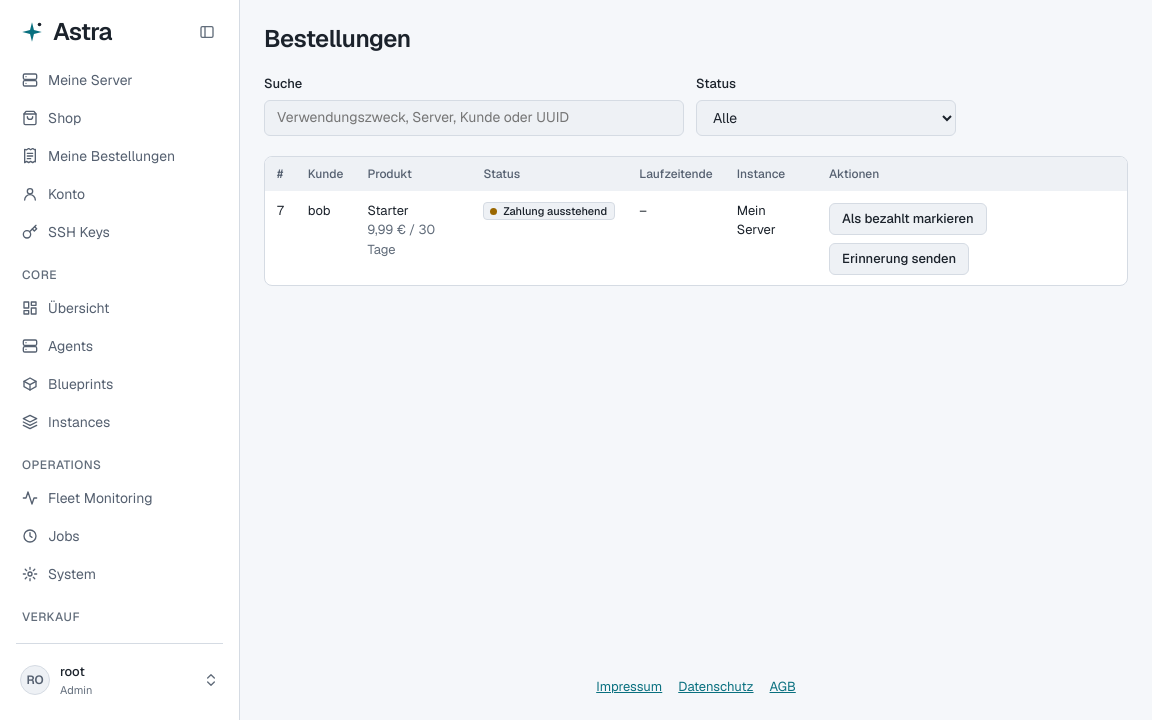
it: AdminOrdersPage › markiert mit optionaler Zahlungsreferenz als bezahlt (uuid im Pfad) und laedt neu
Click the button "Als bezahlt markieren": click(908, 218) [829,202,987,234]
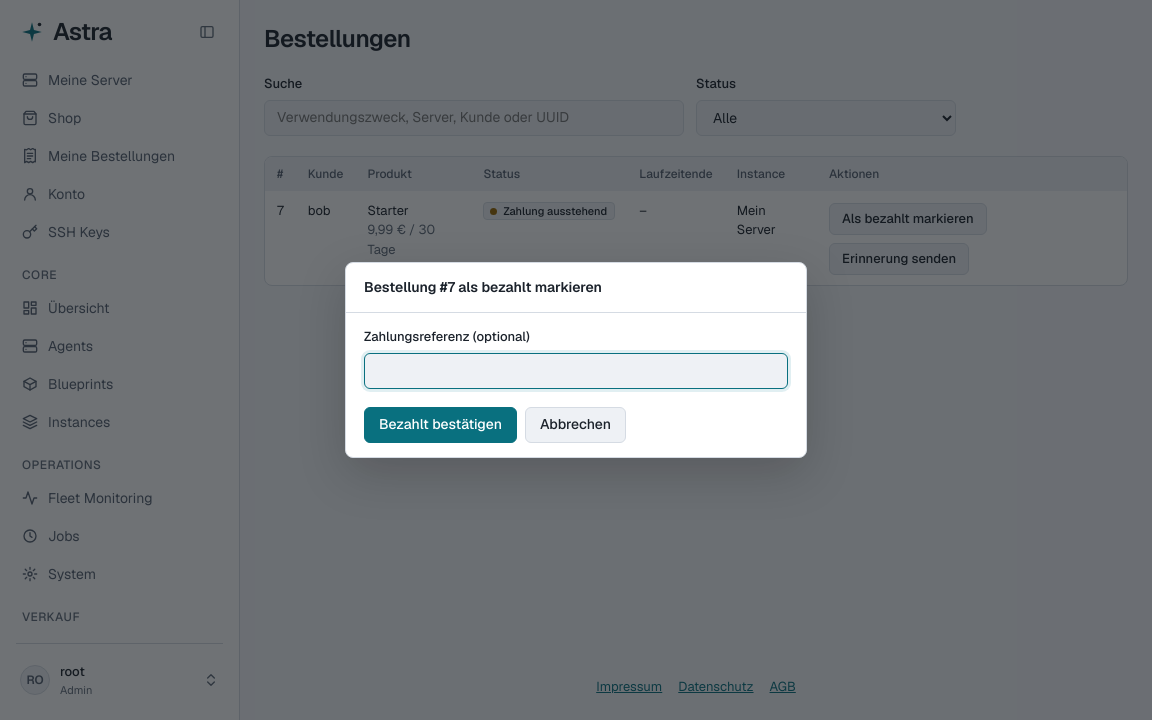
In the field labelled "Zahlungsreferenz (optional)": (576, 371) [364,353,788,389], type " ÜW-42 "
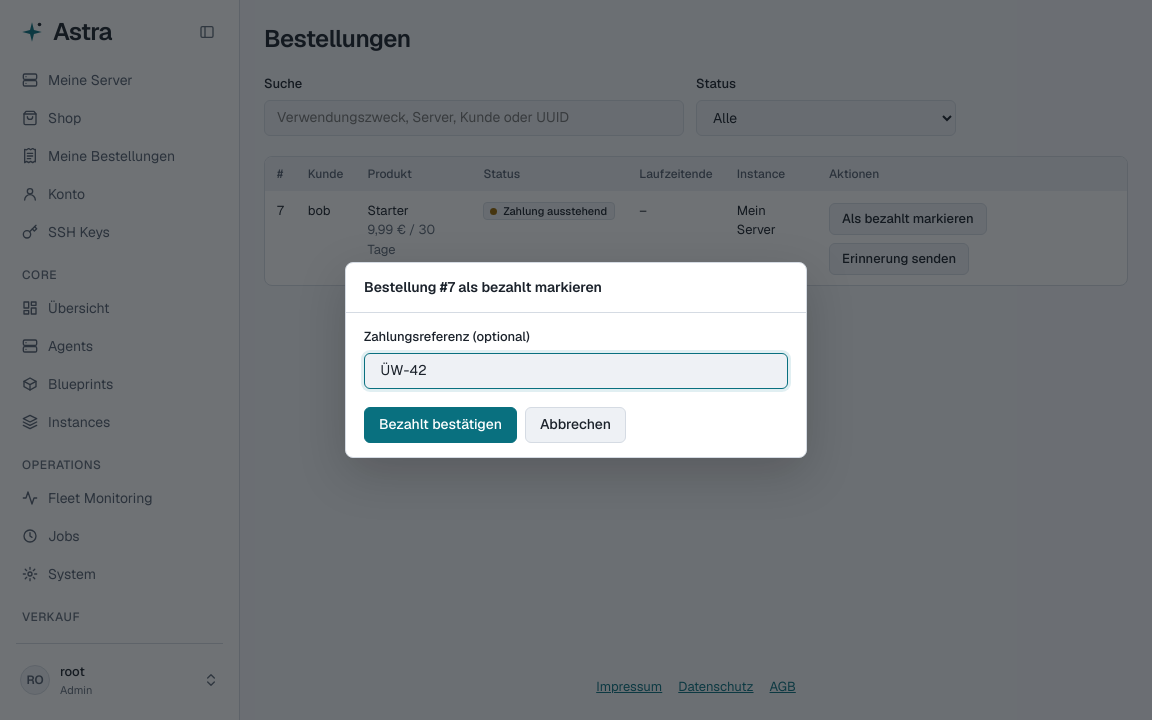
Click the button "Bezahlt bestätigen": click(440, 425) [364,407,517,443]
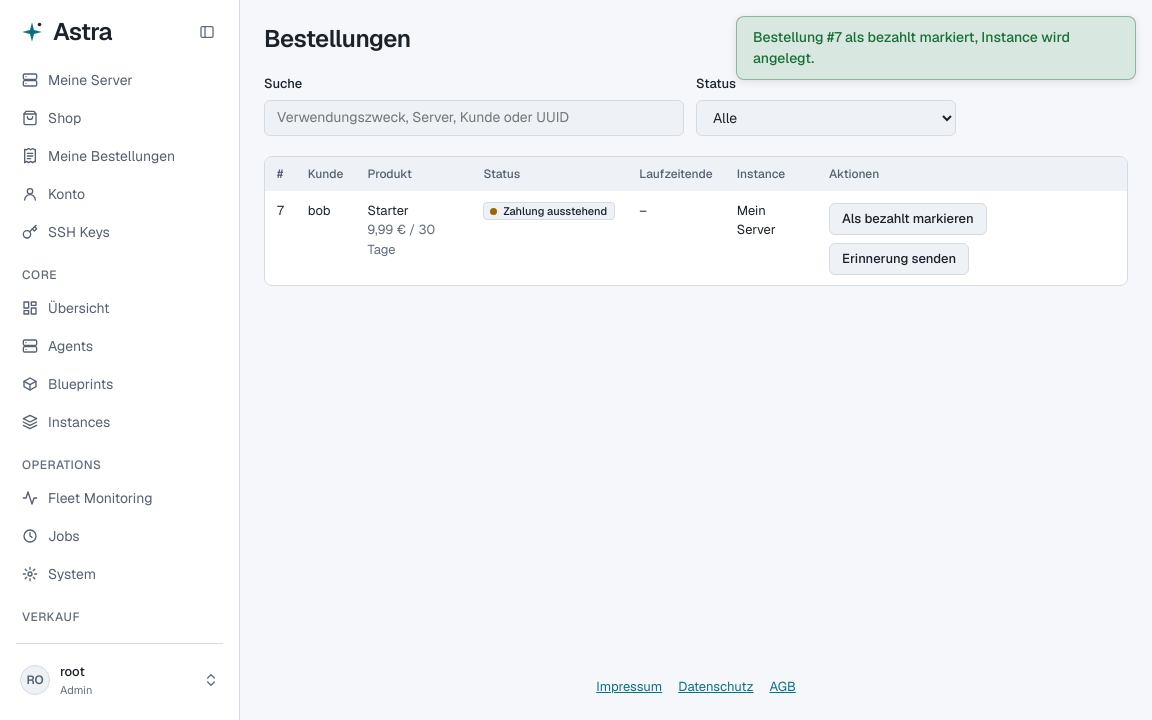
Result: the text "Bestellung #7 als bezahlt markiert, Instance wird angelegt." is shown at [736,16,1136,80]
